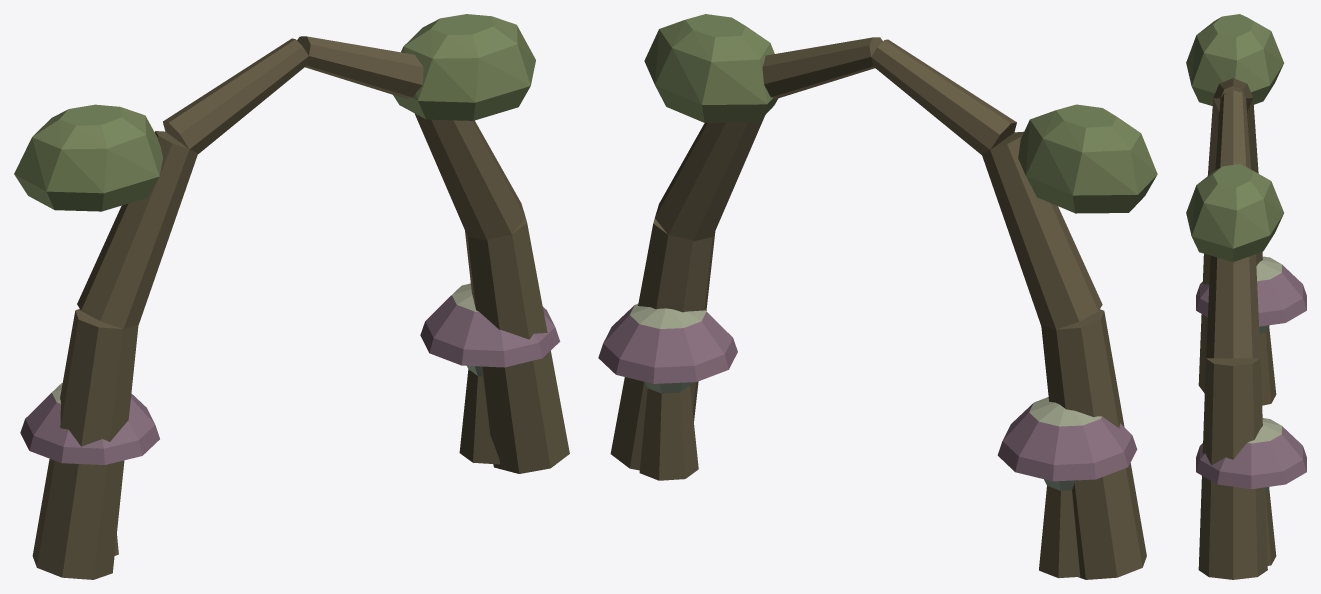
The model's file is root-gateway.glb.
The picture shows the model from 3 angles, left to right: view 1: azimuth 30°, elevation 25°; view 2: azimuth 150°, elevation 25°; view 3: azimuth 270°, elevation 25°; orthographic projection. The views are drawn at different scales.
Parts seen in each view (by area): view 1: root-gateway__body; view 2: root-gateway__body; view 3: root-gateway__body.
Part boxes in pixels (box(x1,y1,x2,y2)): root-gateway__body: box(14, 14, 569, 579); root-gateway__body: box(598, 14, 1157, 579); root-gateway__body: box(1186, 14, 1306, 579).
Bounding box in the file's own units: 2.82 × 2.39 × 0.6635.
